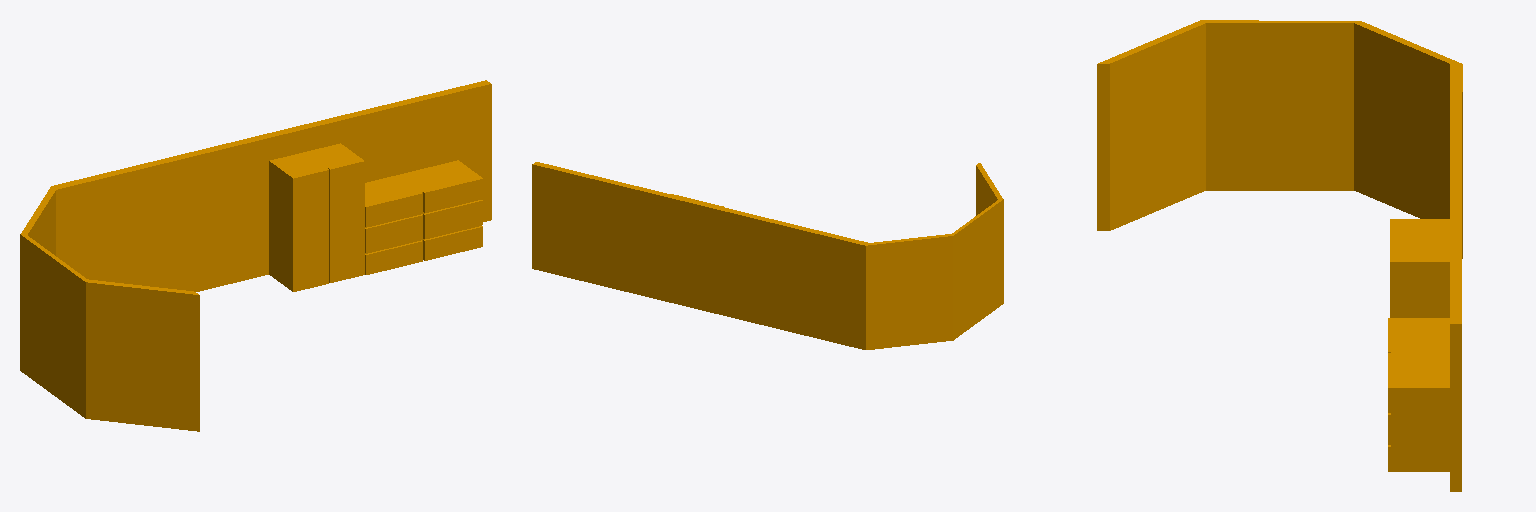
robot.urdf — aircraft:
<?xml version="1.0"?>

<robot name="aircraft" xmlns:xacro="http://www.ros.org/wiki/xacro">
  <link name="body">
    <inertial>
      <mass value="200"/>
      <origin xyz="0 0 0"/>
      <inertia ixx="1" ixy="0" ixz="0" iyy="1" iyz="0" izz="1"/>
    </inertial>
    <visual name="body_visual">
      <origin xyz="-5 2 0" rpy="0 0 1.57" />
      <geometry>
        <mesh filename="package://robot_description/meshes/aircraft/aircraft.obj"/>
      </geometry>
    </visual>
    <collision name="body_collision">
      <origin xyz="-5 2 0" rpy="0 0 1.57" />
      <geometry>
        <mesh filename="package://robot_description/meshes/aircraft/aircraft.obj"/>
      </geometry>
    </collision>
  </link>
  <gazebo>
    <static>true</static>
  </gazebo>
</robot>

--- Facts derived from the render (not from the file) ---
3 views of the same robot in one strip: view 1: azimuth 30°, elevation 25°; view 2: azimuth 150°, elevation 25°; view 3: azimuth 270°, elevation 25° (orthographic).
Model aircraft with 1 links and 0 joints (none), rooted at body, posed all joints at 0.
Links seen in each view (by area): view 1: body; view 2: body; view 3: body.
Link boxes in pixels (<box>): body: <box>20,80,491,431</box>; body: <box>532,162,1003,349</box>; body: <box>1097,20,1462,491</box>.
Bounding box of the posed robot: 11.67 × 5.93 × 3 m (x, y, z).
1 mesh visuals loaded from 1 distinct referenced files (1 OBJ).